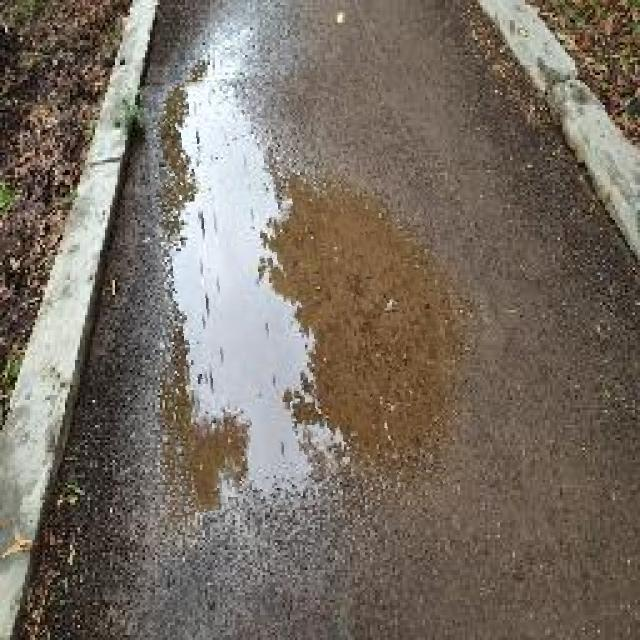puddle: (152, 69, 444, 508)
